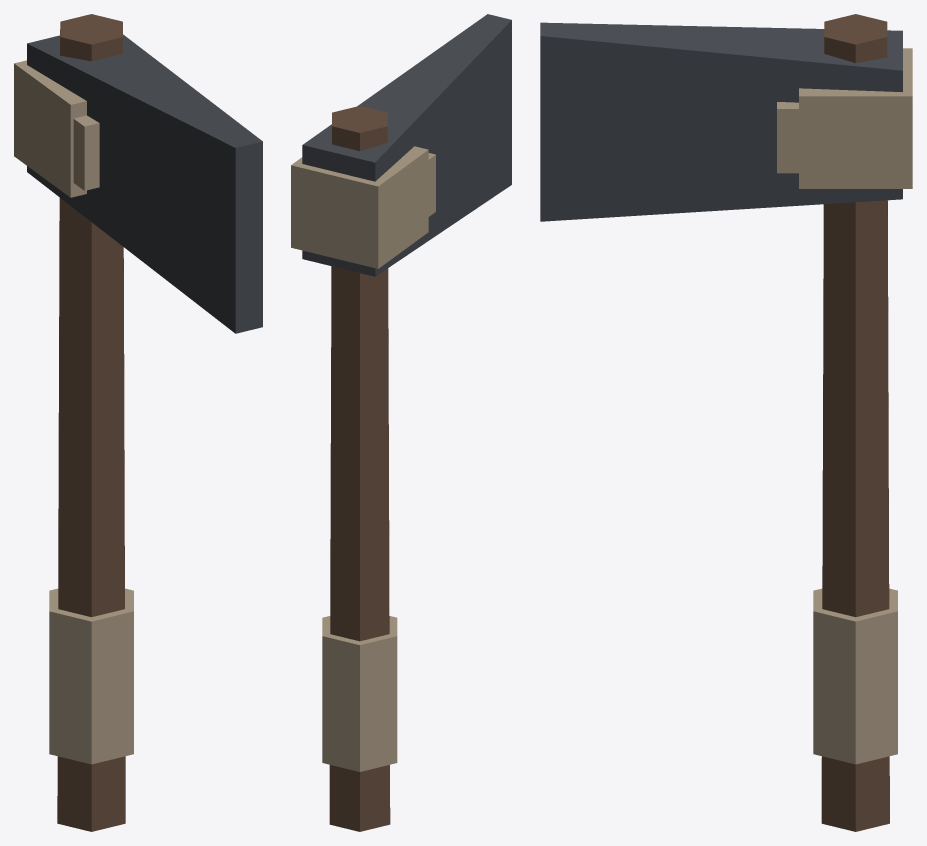
Rendered from stone_axe.glb.
The picture shows the model from 3 angles, left to right: view 1: azimuth 30°, elevation 25°; view 2: azimuth 150°, elevation 25°; view 3: azimuth 270°, elevation 25°; orthographic projection. The views are drawn at different scales.
Parts seen in each view (by area): view 1: Blade, Handle; view 2: Handle, Blade; view 3: Blade, Handle.
Part boxes in pixels (bbox=[...]): Blade: bbox=[14, 34, 262, 333]; Handle: bbox=[49, 14, 133, 831]; Handle: bbox=[322, 106, 397, 831]; Blade: bbox=[291, 14, 511, 276]; Blade: bbox=[540, 22, 912, 221]; Handle: bbox=[813, 14, 897, 831].
Bounding box in the file's own units: 0.072 × 0.55 × 0.236.
